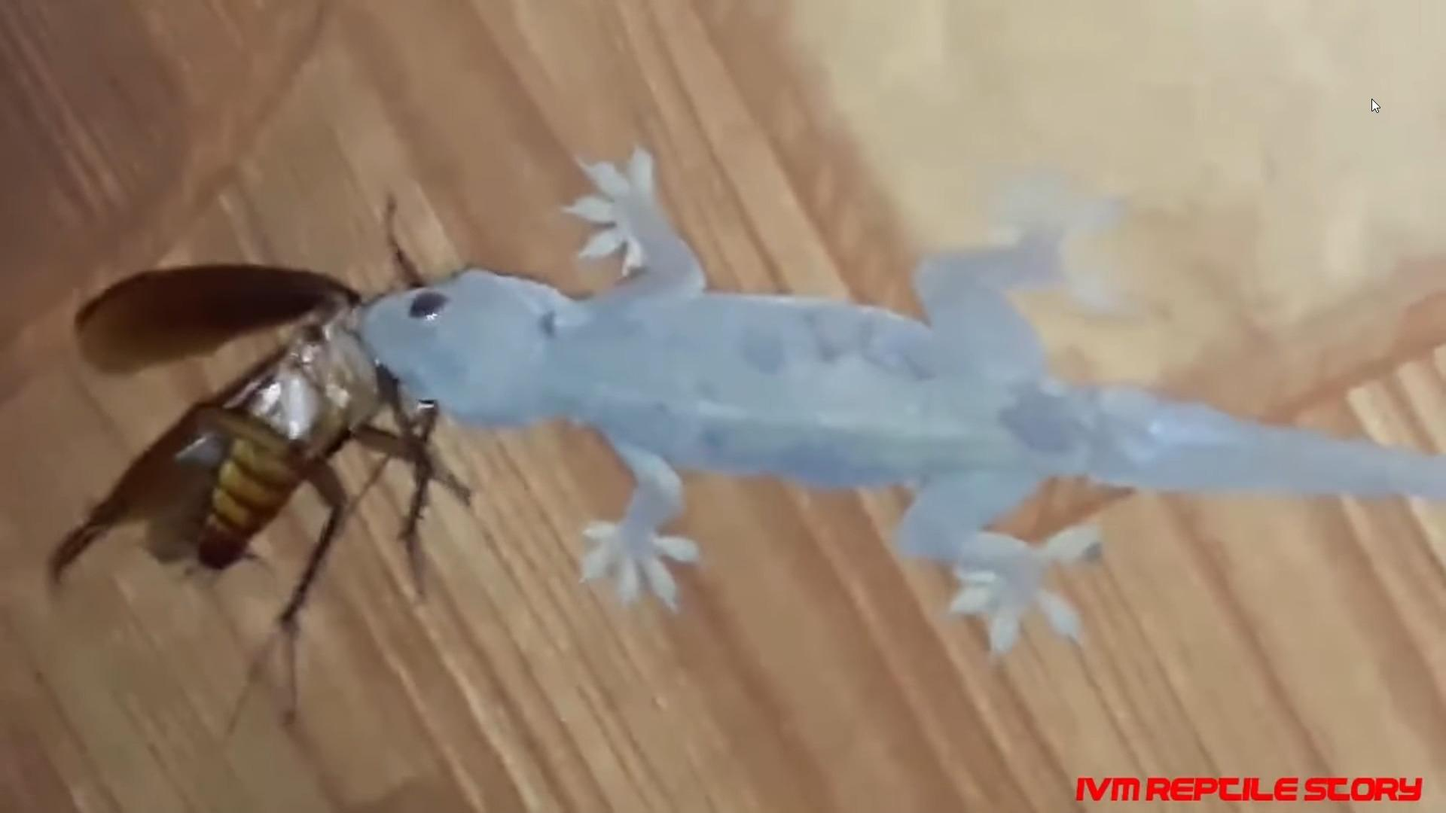cockroach: (97, 256, 411, 626)
lizard: (375, 72, 1396, 666)
